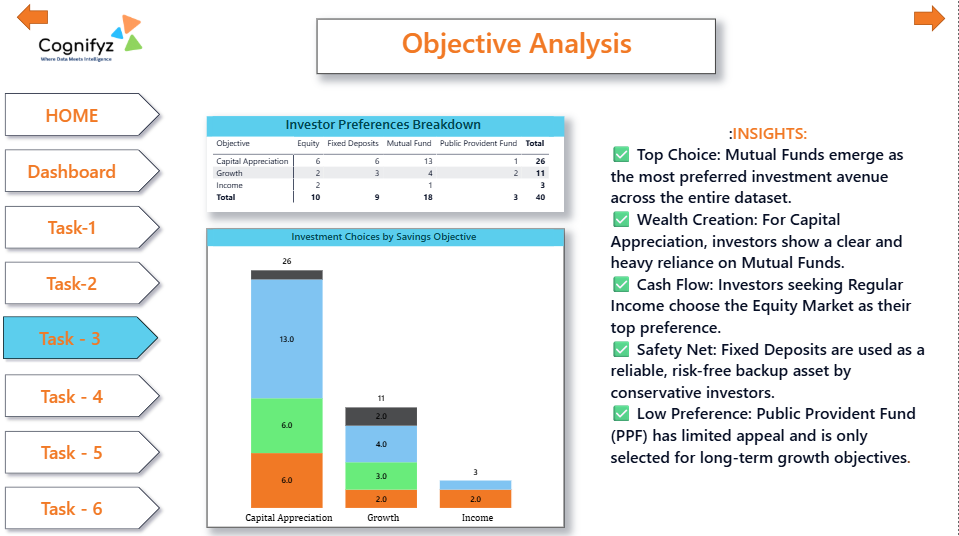

What the dashboard file says about the page in this screenshot:
{"tool":"powerbi","page":{"name":"Task - 3","canvas":[1280,720],"ordinal":4},"visuals":[{"type":"pivotTable","title":"Investor Preferences Breakdown","fields":{"Rows":["Data_set 2.Objective"],"Columns":["Data_set 2.Avenue"],"Values":["CountNonNull(Data_set 2.Avenue)"]},"box":[277.8,155.6,476.7,127.8],"z":0},{"type":"image","box":[0,0,226.7,120],"z":1000},{"type":"shape","box":[25.7,5.7,41.4,35.7],"z":2000},{"type":"shape","box":[1221.4,7.1,41.4,35.7],"z":3000},{"type":"textbox","box":[425,25,531.7,73.3],"z":4000},{"type":"textbox","box":[811.7,156.7,430,548.3],"z":5000},{"type":"pageNavigator","box":[0,115,225,605],"z":6000},{"type":"columnChart","title":"Investment Choices by Savings Objective","fields":{"Category":["Data_set 2.Objective"],"Series":["Data_set 2.Avenue"],"Y":["CountNonNull(Data_set 2.Avenue)"]},"box":[277.6,305.7,476.9,398.6],"z":7000}]}

Visuals, with their boxes in screenshot pixels (x1, y1, x2, y2), scaled from the page's 1280x720 canvas onto the 959x536 screenshot:
"Investor Preferences Breakdown" pivotTable: (208,116,565,211)
image: (0,0,170,89)
shape: (19,4,50,31)
shape: (915,5,946,32)
textbox: (318,19,717,73)
textbox: (608,117,930,525)
pageNavigator: (0,86,169,535)
"Investment Choices by Savings Objective" columnChart: (208,228,565,524)
